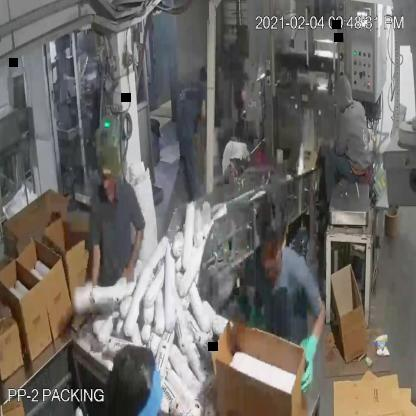glove: (294, 326, 324, 392)
no_glove: (119, 215, 147, 290), (84, 235, 106, 304)
